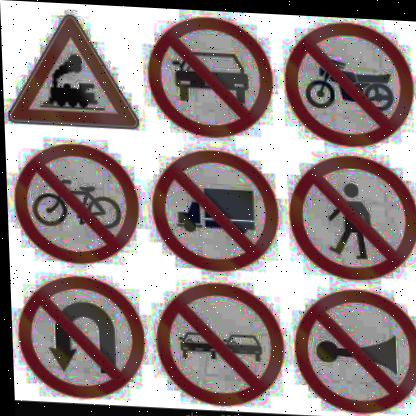No U-turn: (11, 273, 147, 399)
